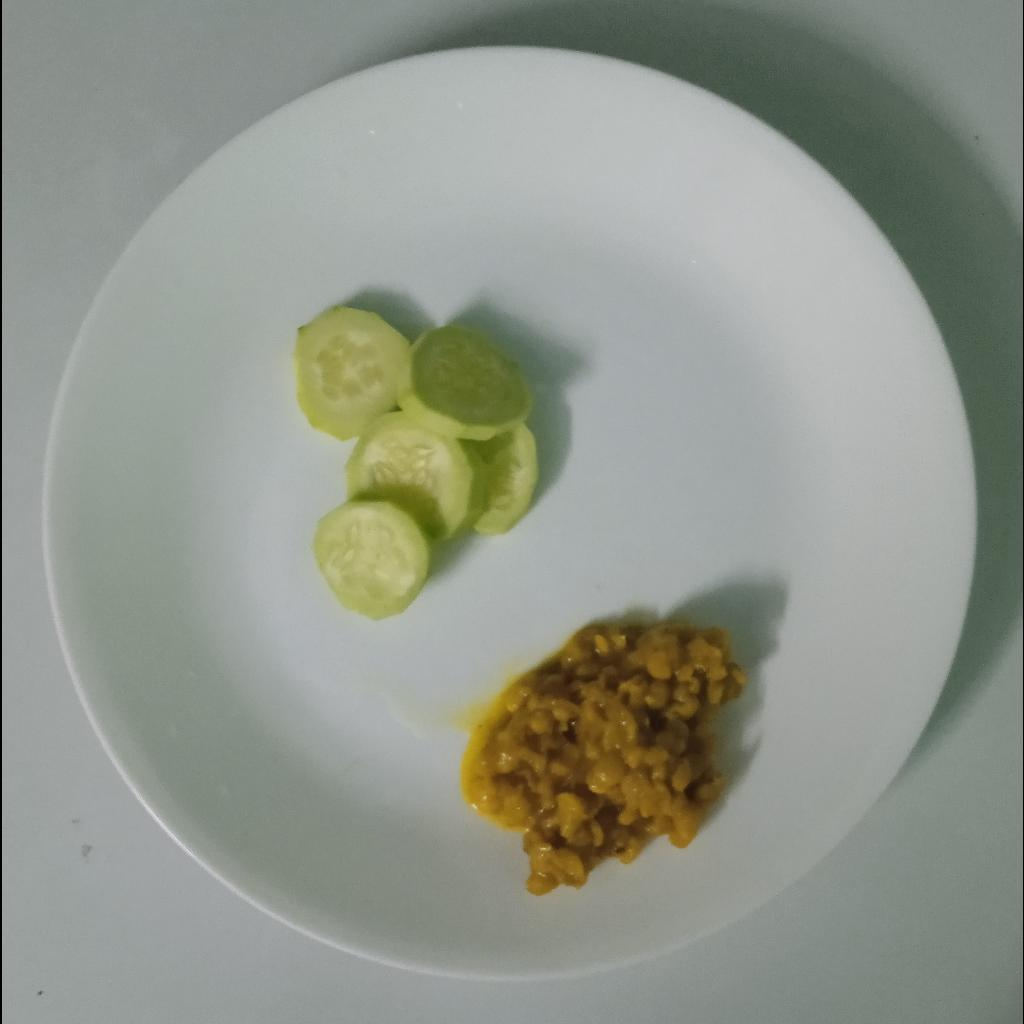cucumber: (290, 302, 539, 621)
daal: (472, 621, 746, 890)
